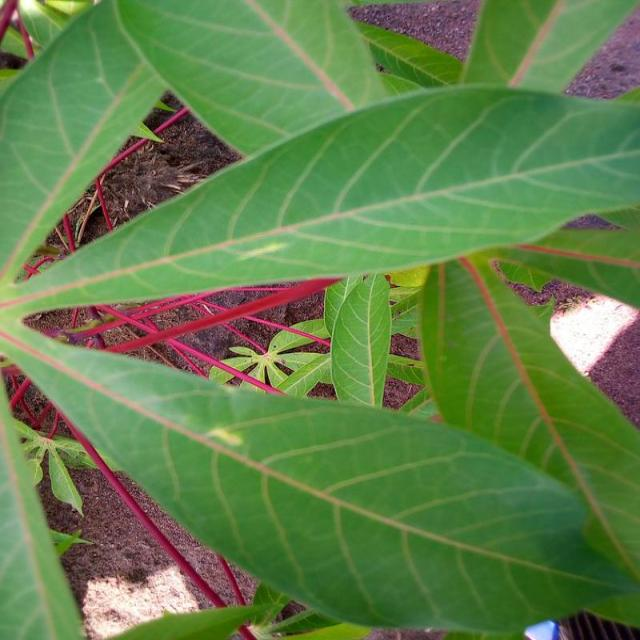cassava leaf: (1, 1, 638, 636), (6, 80, 639, 314)
